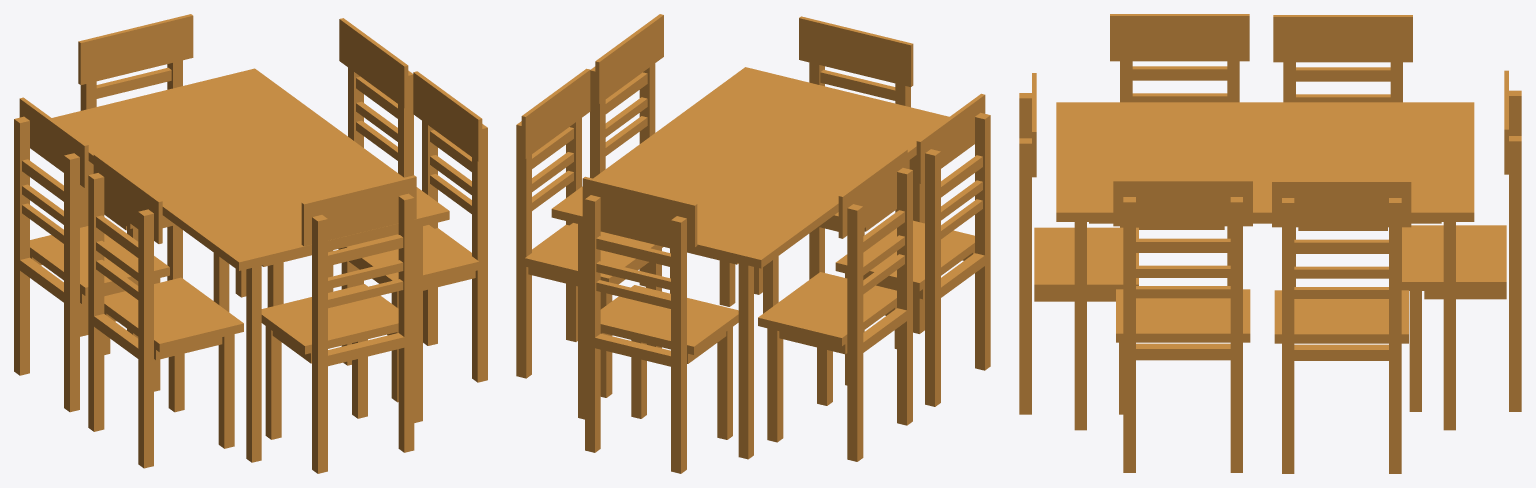
File: 01.00 Dining Table.fbx
The picture shows the model from 3 angles, left to right: view 1: azimuth 30°, elevation 25°; view 2: azimuth 150°, elevation 25°; view 3: azimuth 270°, elevation 25°; orthographic projection. The views are drawn at different scales.
Parts seen in each view (by area): view 1: group_855033435, group_618971222, group_837925054, group_128594385, group_14001241, group_1898937961, group_689985168; view 2: group_855033435, group_1898937961, group_128594385, group_837925054, group_689985168, group_618971222, group_14001241; view 3: group_855033435, group_14001241, group_689985168, group_1898937961, group_618971222, group_837925054, group_128594385.
Boxes of the visible parts, <box> form: group_855033435: <box>52,68,449,462</box>; group_618971222: <box>261,175,416,473</box>; group_837925054: <box>88,153,243,468</box>; group_128594385: <box>14,97,169,412</box>; group_14001241: <box>338,71,487,402</box>; group_1898937961: <box>78,14,229,338</box>; group_689985168: <box>267,18,413,307</box>; group_855033435: <box>551,67,949,459</box>; group_1898937961: <box>582,176,738,473</box>; group_128594385: <box>758,148,912,461</box>; group_837925054: <box>835,93,990,406</box>; group_689985168: <box>516,68,663,397</box>; group_618971222: <box>763,16,913,332</box>; group_14001241: <box>590,14,735,306</box>; group_855033435: <box>1056,102,1474,430</box>; group_14001241: <box>1113,179,1252,472</box>; group_689985168: <box>1272,180,1411,473</box>; group_1898937961: <box>1402,70,1521,411</box>; group_618971222: <box>1019,73,1138,414</box>; group_837925054: <box>1110,14,1249,285</box>; group_128594385: <box>1273,15,1412,289</box>.
Bounding box in the file's own units: 178 × 134 × 209.
